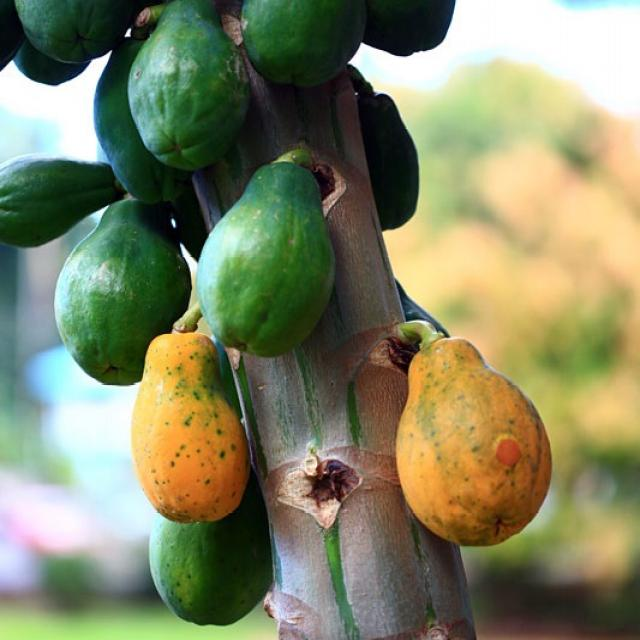Pepaya rippen: (384, 332, 555, 557), (132, 337, 246, 518)
Pepaya unrippen: (199, 164, 340, 348), (55, 197, 160, 383), (137, 7, 244, 161), (149, 526, 272, 620)
